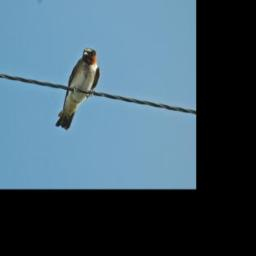Swallow: (53, 46, 100, 130)
